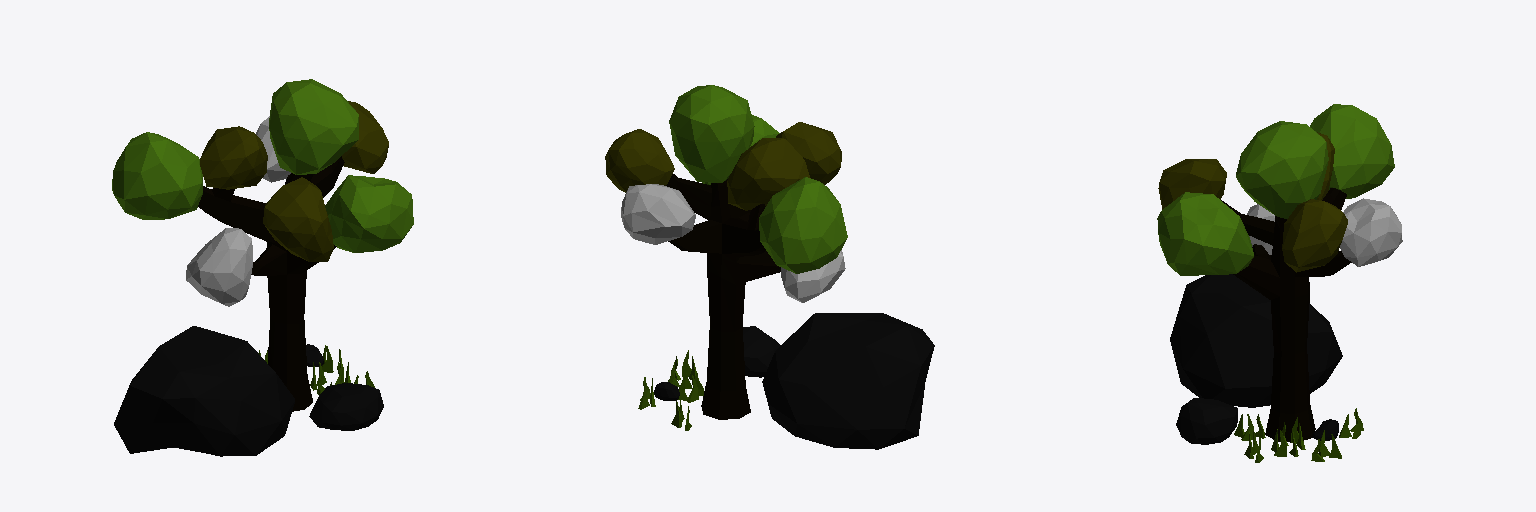
The model's file is arvorePedras.obj.
3 views of the same model, side by side, from view 1: azimuth 30°, elevation 25°; view 2: azimuth 150°, elevation 25°; view 3: azimuth 270°, elevation 25° (orthographic).
Parts seen in each view (by area): view 1: Arbre_Normal_Cylinder.002, Icosphere.005, caillou1_Icosphere; view 2: Arbre_Normal_Cylinder.002, Icosphere.005, caillou1_Icosphere; view 3: Arbre_Normal_Cylinder.002, Icosphere.005, caillou1_Icosphere.
Boxes of the visible parts, <box> form: Arbre_Normal_Cylinder.002: <box>112,79,413,411</box>; Icosphere.005: <box>114,326,294,456</box>; caillou1_Icosphere: <box>309,383,383,430</box>; Arbre_Normal_Cylinder.002: <box>605,85,847,419</box>; Icosphere.005: <box>762,313,934,449</box>; caillou1_Icosphere: <box>743,326,780,377</box>; Arbre_Normal_Cylinder.002: <box>1157,104,1402,442</box>; Icosphere.005: <box>1170,274,1342,407</box>; caillou1_Icosphere: <box>1176,398,1237,444</box>.
Bounding box in the file's own units: 3.62 × 3.92 × 2.75.